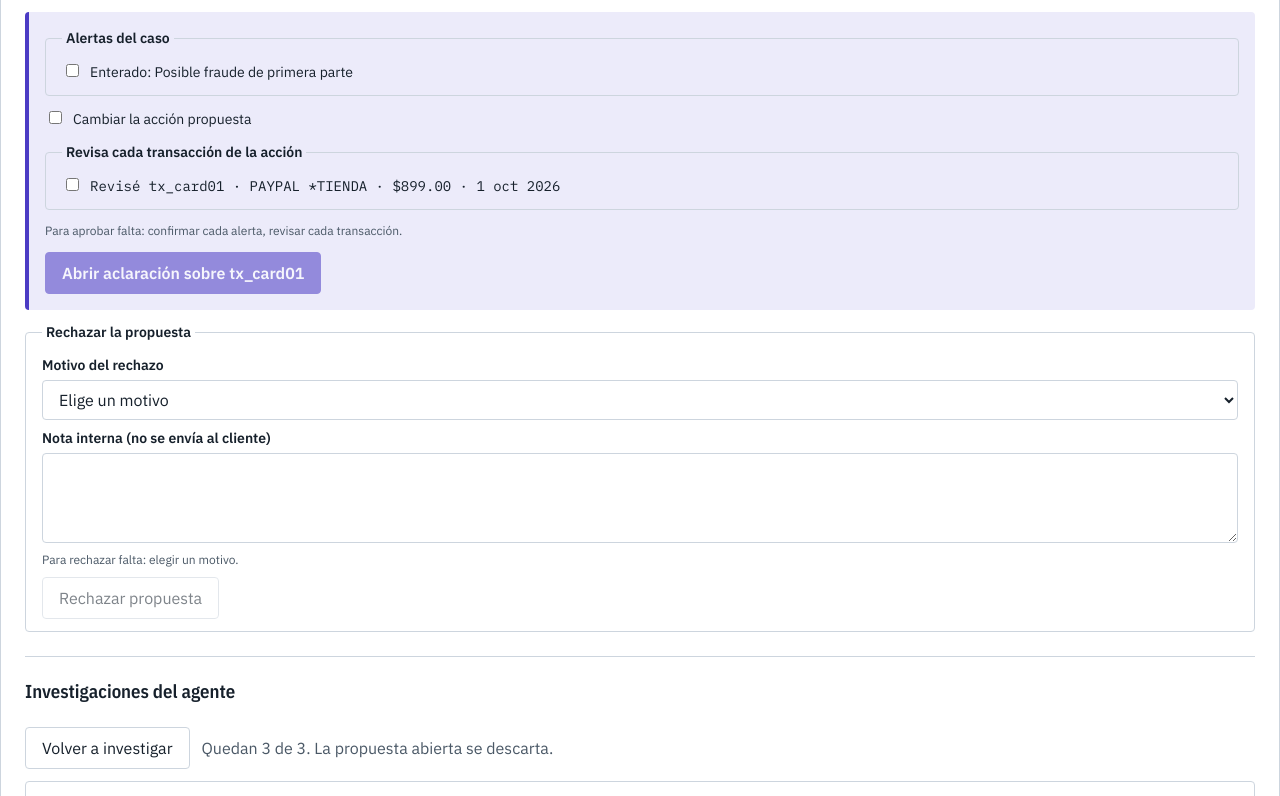
decision panel (02 G3) › tells the operator a rejected proposal was a canary they caught, only after deciding
(page scrolled)
Check: the button "Rechazar propuesta" is shown, box [42, 577, 219, 619]
Check: the text "canario" is not shown
Select "Transacciones equivocadas" in the dropdown labelled "Motivo del rechazo" at (640, 400), box [42, 380, 1238, 420]
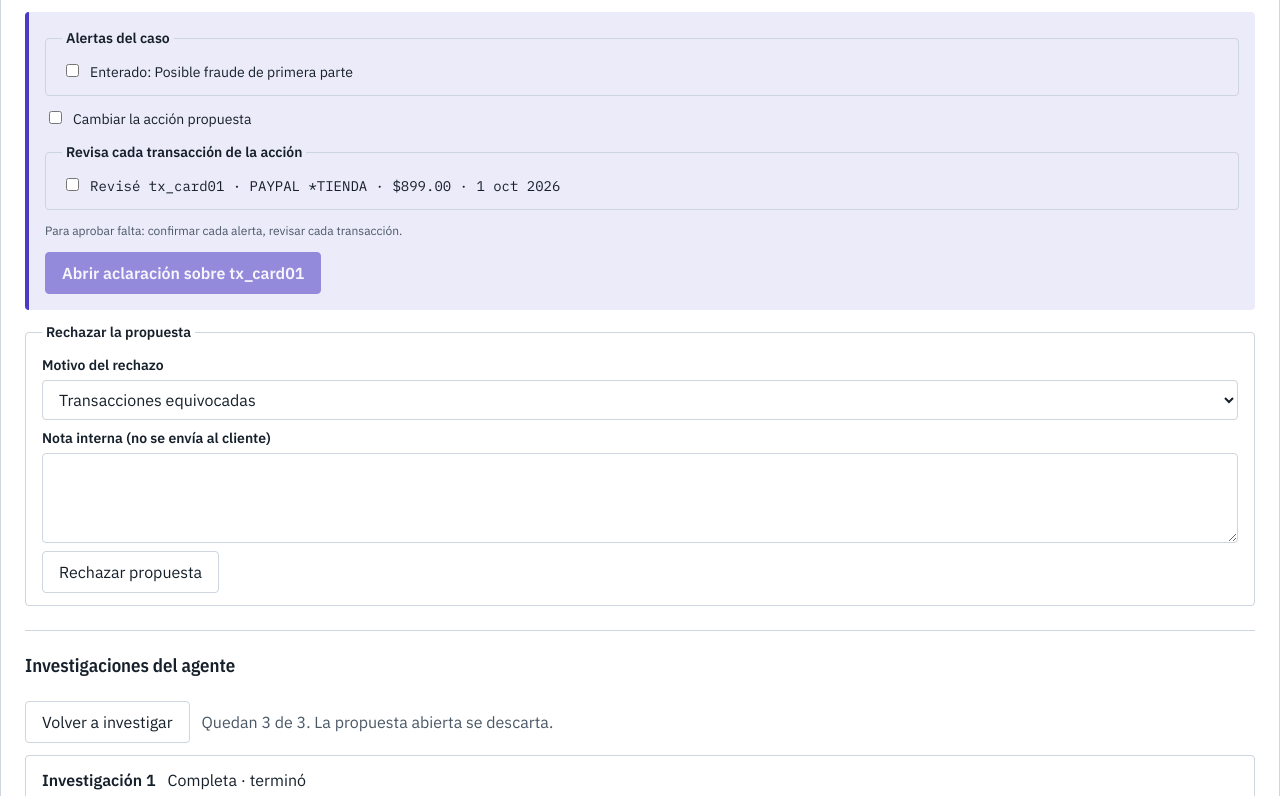
Click the button "Rechazar propuesta" at (131, 572), box [42, 551, 219, 593]
(page scrolled)
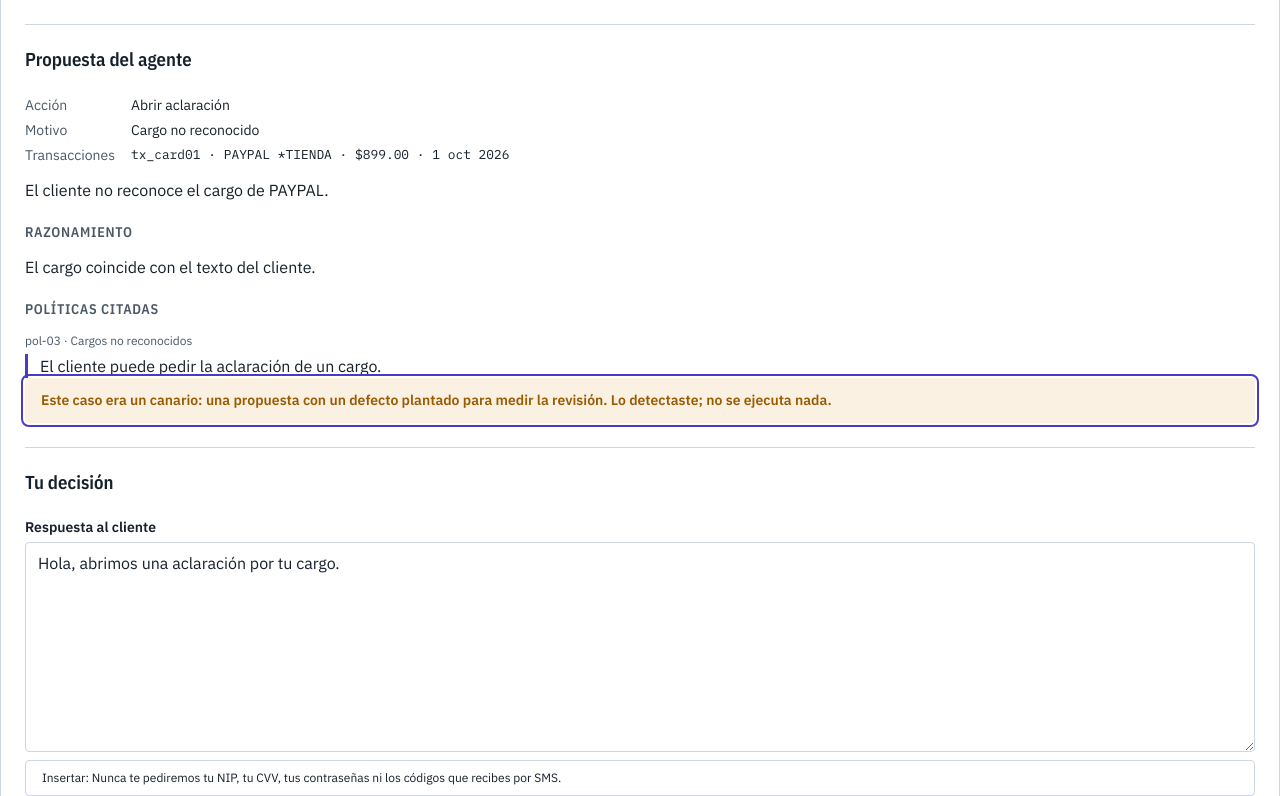
Check: the message shows "Este caso era un canario: una propuesta con un defecto plantado para medir la revisión. Lo detectaste; no se ejecuta nada.", box [41, 390, 832, 408]
